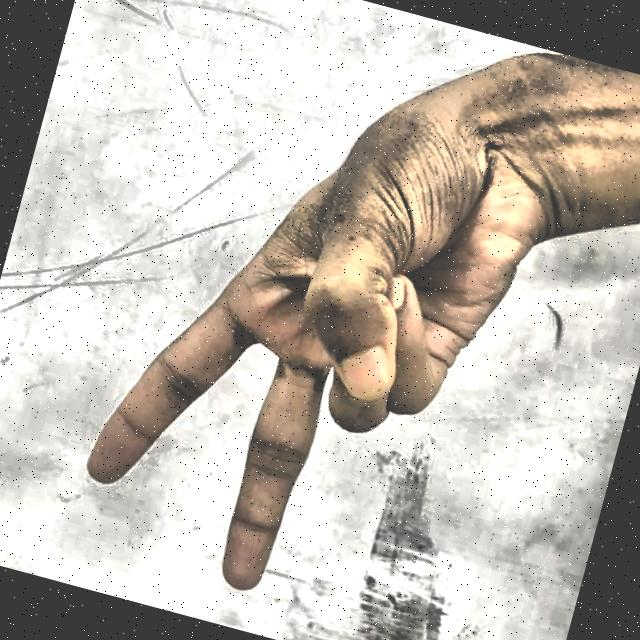Pa: (46, 11, 593, 640)
